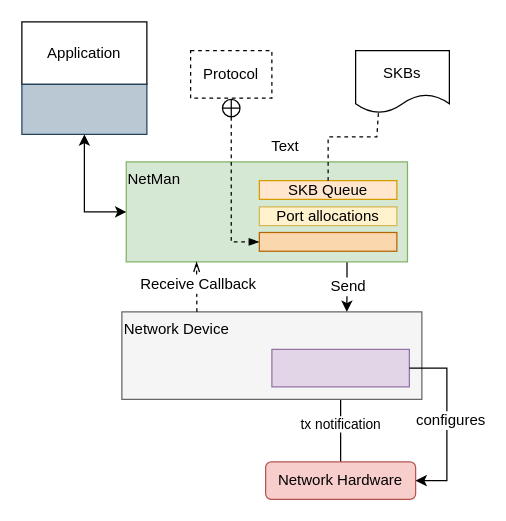
Image size: 506x521. Some labels were removed from this diagram. Here are the shapes that lost their labels. From the top down, the box of each, then its label:
(21, 83, 147, 134): UMP
(258, 231, 397, 251): Protocols
(271, 348, 409, 387): Device Driver
